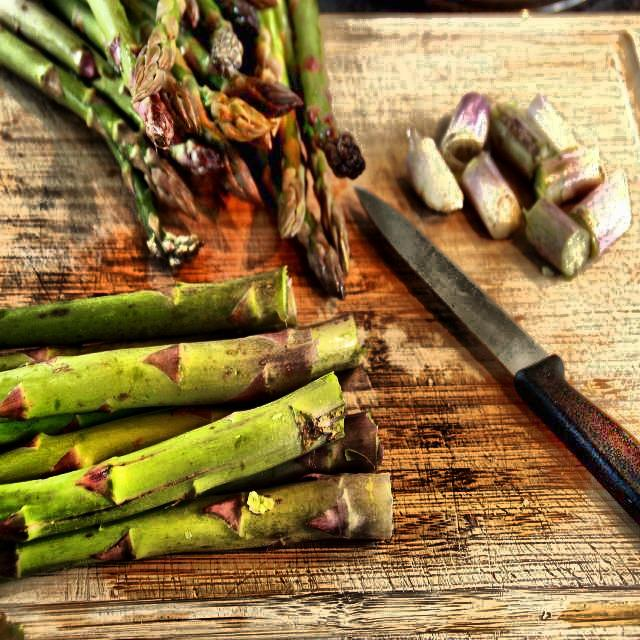knife: (349, 180, 640, 528)
